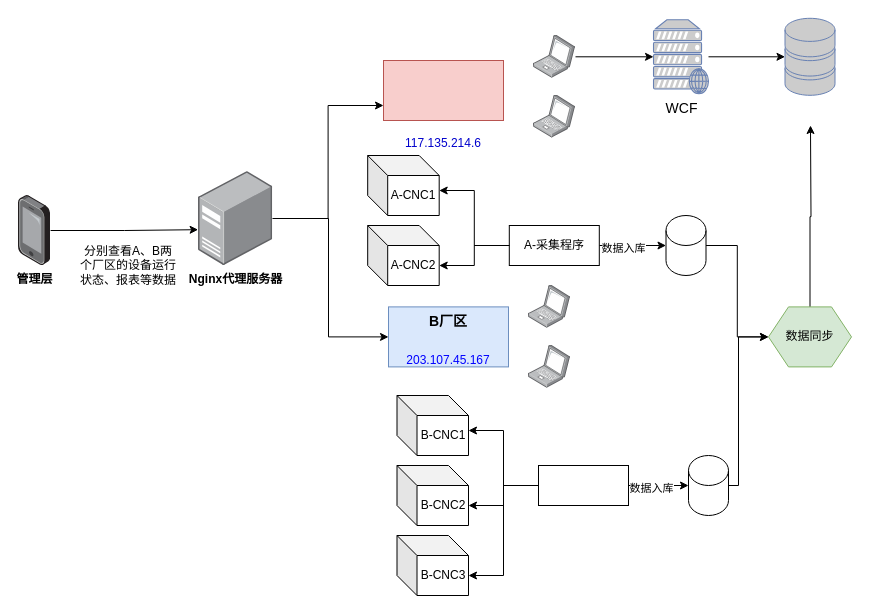
Image size: 870x613. Some labels were removed from this diagram. Each missing label, with the centre of its shape:
"A-DB" goes at point 685,245.
"A厂区" goes at point 443,90.
"B-DB" goes at point 708,485.
"B-采集程序" goes at point 583,485.
"DB" goes at point 810,56.
